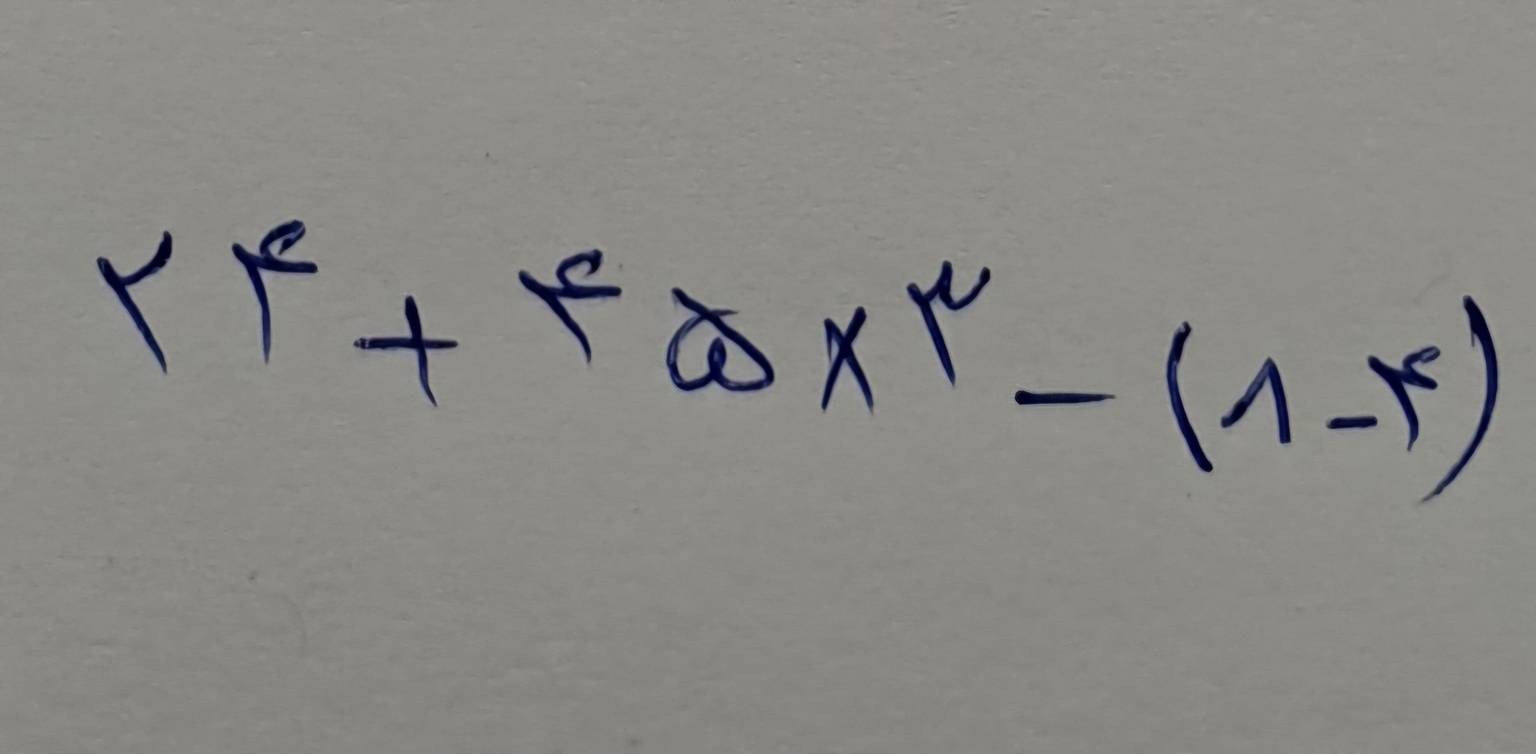character: (1418, 296, 1498, 494), (219, 223, 318, 364), (510, 249, 623, 366), (355, 299, 472, 404), (654, 287, 773, 388), (898, 260, 988, 385), (97, 234, 170, 375), (1367, 336, 1450, 447), (1159, 318, 1214, 472), (811, 301, 877, 409), (1219, 356, 1295, 445), (1013, 382, 1115, 404), (1314, 408, 1383, 429)
